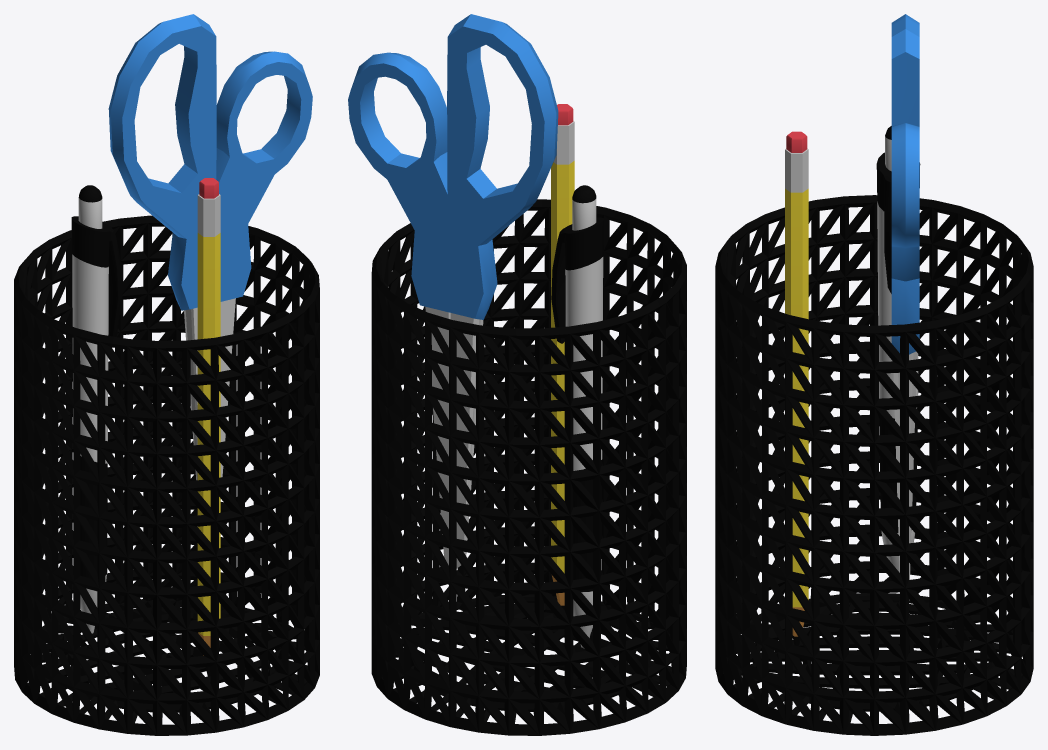
Rendered from lapicero.fbx.
3 renders of one model, left to right at view 1: azimuth 30°, elevation 25°; view 2: azimuth 150°, elevation 25°; view 3: azimuth 270°, elevation 25°, orthographic. The views are drawn at different scales.
Parts seen in each view (by area): view 1: lapicero, tijeras, boligrafo, lapiz; view 2: lapicero, tijeras, boligrafo, lapiz; view 3: lapicero, tijeras, lapiz, boligrafo.
Boxes of the visible parts, x1,y1,x2,y2 form: lapicero: (14, 215, 319, 735); tijeras: (108, 14, 312, 499); boligrafo: (71, 185, 122, 633); lapiz: (197, 178, 220, 676); lapicero: (371, 199, 686, 735); tijeras: (348, 14, 558, 568); boligrafo: (551, 185, 603, 647); lapiz: (551, 104, 574, 609); lapicero: (715, 195, 1033, 735); tijeras: (891, 14, 919, 600); lapiz: (785, 131, 808, 646); boligrafo: (876, 126, 920, 572).
Size of the model in its own units: 11.65 by 24.34 by 10.62.
